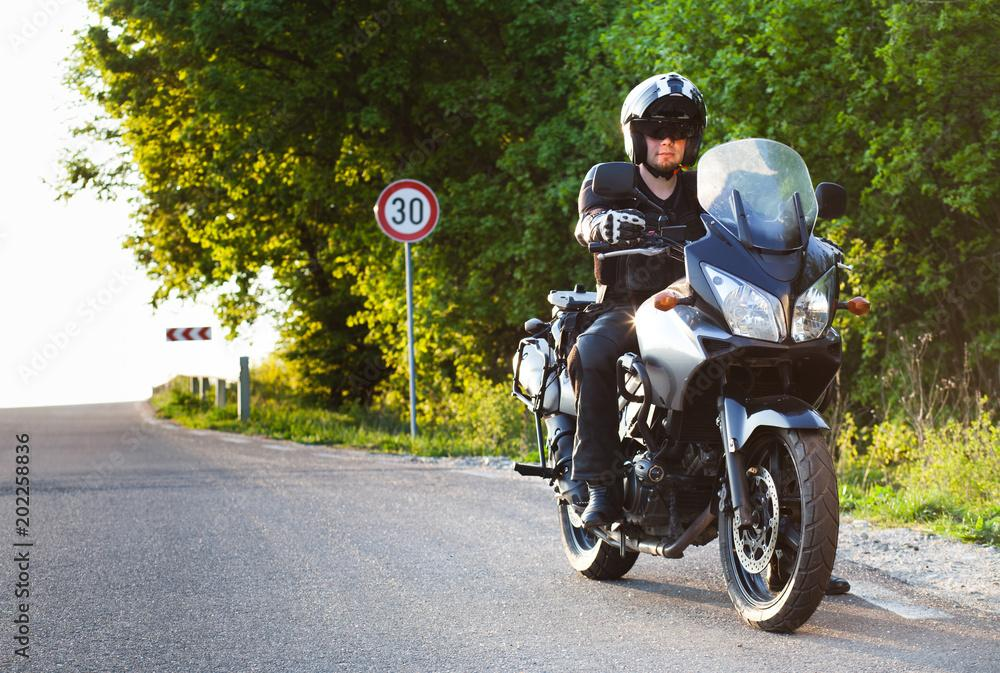helmet: (620, 71, 708, 182)
